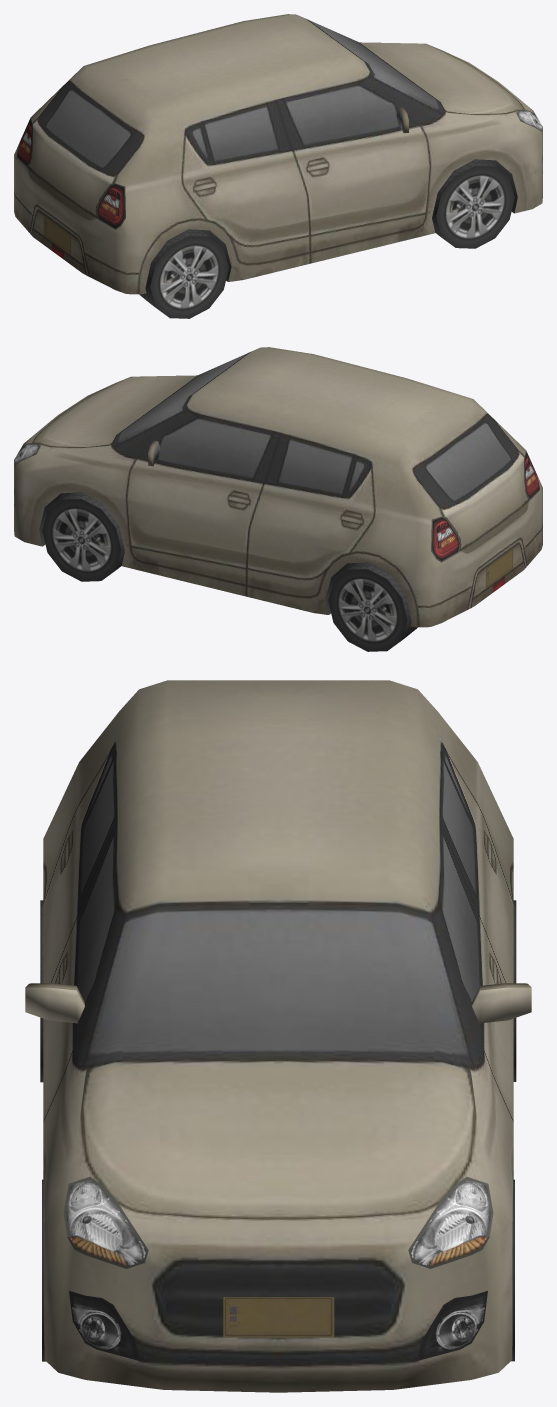
Rendered from sf_hatchback_03.glb.
3 renders of one model, top to bottom at view 1: azimuth 30°, elevation 25°; view 2: azimuth 150°, elevation 25°; view 3: azimuth 270°, elevation 25°, orthographic. The views are drawn at different scales.
Parts seen in each view (by area): view 1: Traffic_Hatchback_03_Body, Traffic_Hatchback_03_Wheel_Back_R_Traffic_Vehicle_Wheels_01_, Traffic_Hatchback_03_Wheel_Front_R_Traffic_Vehicle_Wheels_01, Traffic_Hatchback_03_Light_Break_Traffic_Vehicle_01_Light_2_; view 2: Traffic_Hatchback_03_Body, Traffic_Hatchback_03_Wheel_Back_L_Traffic_Vehicle_Wheels_01_, Traffic_Hatchback_03_Wheel_Front_L_Traffic_Vehicle_Wheels_01, Traffic_Hatchback_03_Light_Break_Traffic_Vehicle_01_Light_2_; view 3: Traffic_Hatchback_03_Body, Traffic_Hatchback_03_Light.
Part boxes in pixels (left/top/right/bottom): Traffic_Hatchback_03_Body: left=14, top=14, right=542, bottom=294; Traffic_Hatchback_03_Wheel_Back_R_Traffic_Vehicle_Wheels_01_: left=139, top=229, right=228, bottom=318; Traffic_Hatchback_03_Wheel_Front_R_Traffic_Vehicle_Wheels_01: left=432, top=159, right=514, bottom=248; Traffic_Hatchback_03_Light_Break_Traffic_Vehicle_01_Light_2_: left=17, top=118, right=125, bottom=229; Traffic_Hatchback_03_Body: left=14, top=347, right=542, bottom=627; Traffic_Hatchback_03_Wheel_Back_L_Traffic_Vehicle_Wheels_01_: left=328, top=562, right=417, bottom=651; Traffic_Hatchback_03_Wheel_Front_L_Traffic_Vehicle_Wheels_01: left=42, top=492, right=124, bottom=581; Traffic_Hatchback_03_Light_Break_Traffic_Vehicle_01_Light_2_: left=431, top=451, right=539, bottom=562; Traffic_Hatchback_03_Body: left=25, top=680, right=531, bottom=1392; Traffic_Hatchback_03_Light: left=63, top=1177, right=493, bottom=1361.
Size of the model in its own units: 3.7 by 1.54 by 1.8.
3 materials, 3 textured.
